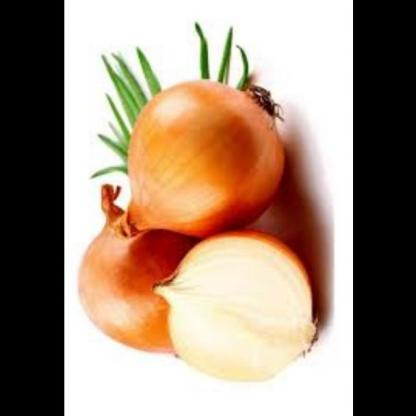onion: (111, 80, 290, 246), (152, 227, 315, 381), (72, 187, 180, 358)
